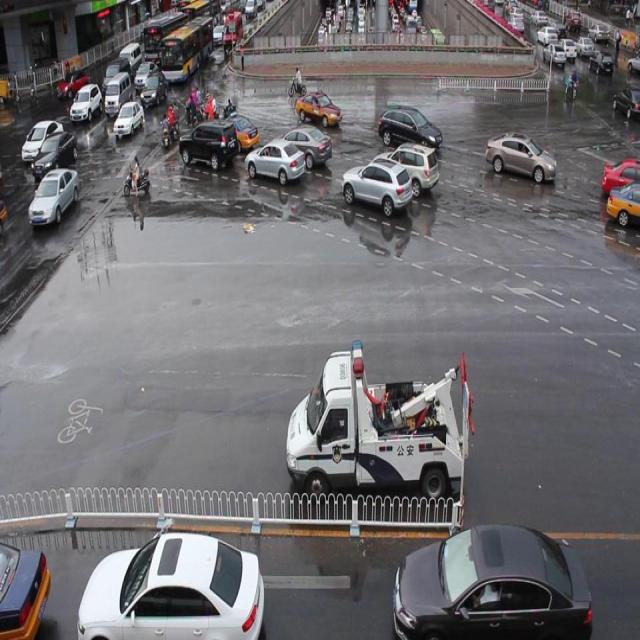bus: (285, 338, 464, 498)
car: (341, 158, 412, 222), (483, 130, 555, 184), (371, 140, 438, 198), (377, 103, 442, 153), (266, 123, 332, 169), (244, 137, 305, 183), (604, 179, 640, 230), (294, 90, 342, 128), (213, 114, 259, 152), (600, 159, 640, 199)
truck: (179, 118, 237, 168)
